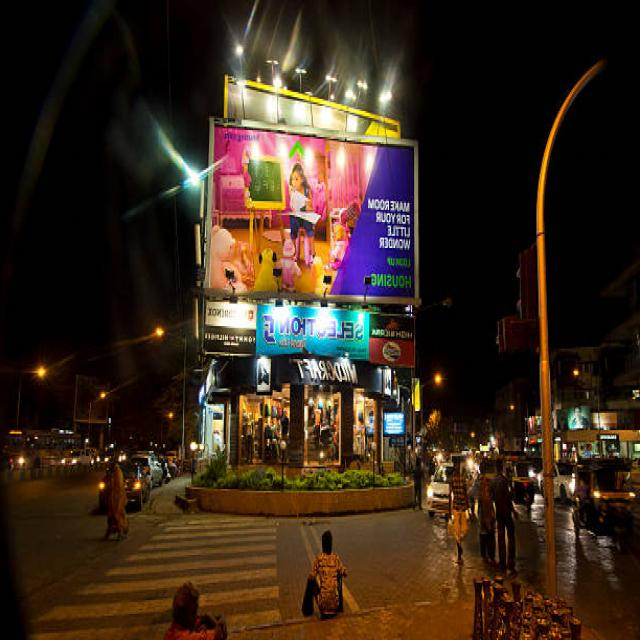Werbetafel frei: (210, 131, 418, 294)
